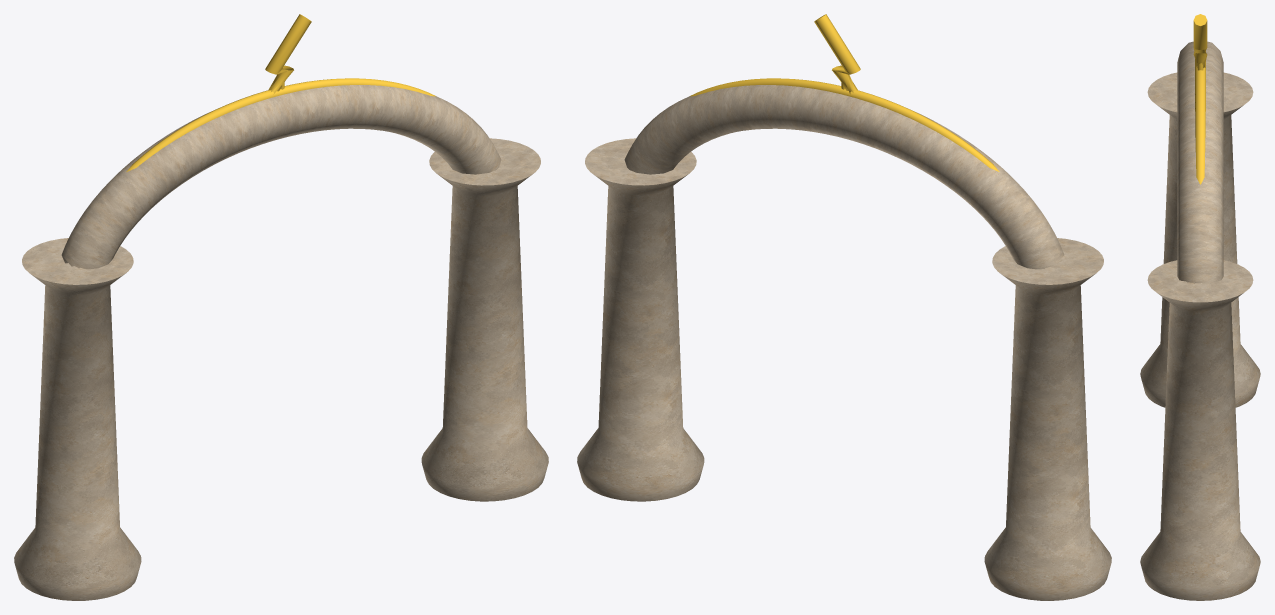
Rendered from 08_Portico_Arco.obj.
3 renders of one model, left to right at view 1: azimuth 30°, elevation 25°; view 2: azimuth 150°, elevation 25°; view 3: azimuth 270°, elevation 25°, orthographic. The views are drawn at different scales.
Visible parts, largest first — view 1: Arco_transitable, Emblema; view 2: Arco_transitable, Emblema; view 3: Arco_transitable, Emblema.
Boxes of the visible parts, left/top/right/bottom form: Arco_transitable: left=14, top=78, right=548, bottom=600; Emblema: left=265, top=14, right=311, bottom=94; Arco_transitable: left=577, top=78, right=1111, bottom=600; Emblema: left=814, top=14, right=860, bottom=93; Arco_transitable: left=1140, top=41, right=1260, bottom=600; Emblema: left=1193, top=14, right=1207, bottom=70.
Bounding box in the file's own units: 5.34 × 4.99 × 1.14.
